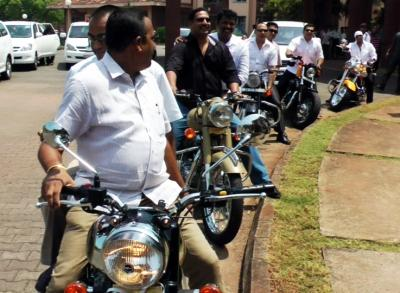nohelmet: (108, 11, 164, 73), (88, 1, 125, 61), (183, 7, 215, 43), (214, 5, 238, 41), (249, 17, 267, 46), (262, 20, 282, 45), (302, 20, 316, 42), (348, 31, 371, 42)
